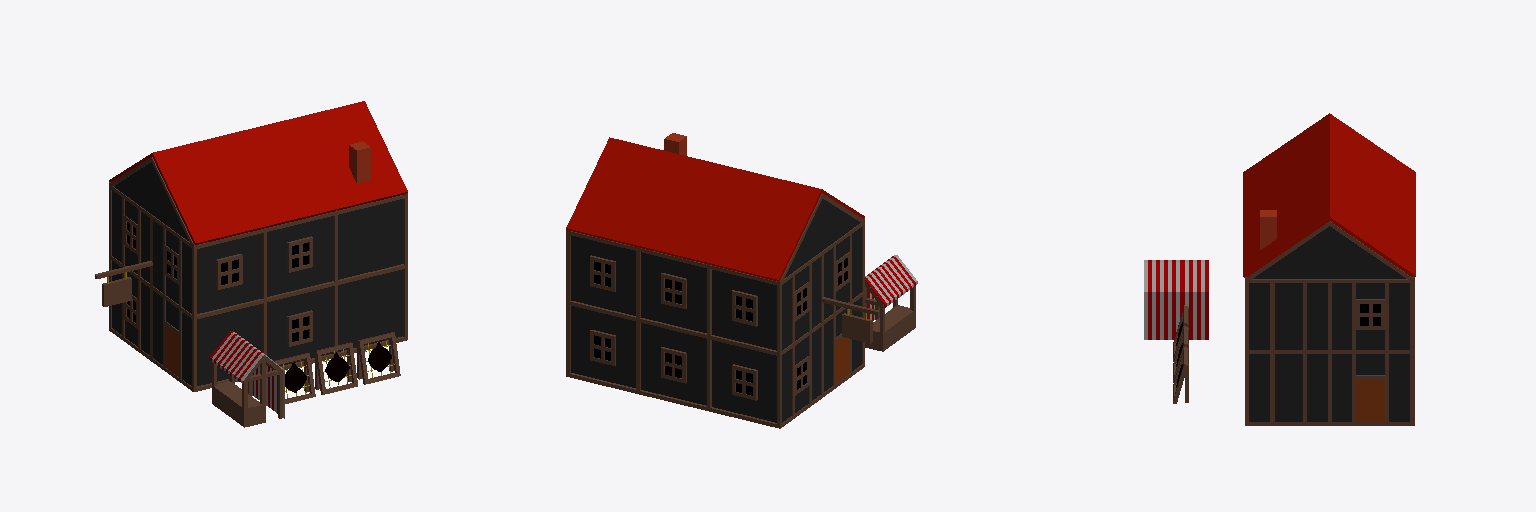
The model's file is timberframedtanner.obj.
The picture shows the model from 3 angles: view 1: azimuth 30°, elevation 25°; view 2: azimuth 150°, elevation 25°; view 3: azimuth 270°, elevation 25°; orthographic projection.
Visible parts, largest first — view 1: Cube.005, Cube.007_Cube.011, Cylinder.001_Cylinder.008, Cylinder.003_Cylinder.001, Cylinder.004_Cylinder.009, Cube.011_Cube.015, Cube.018_Cube.016, Cube.056_Cube.081, Cube.001_Cube.058, Cube.013_Cube.080, Cube.006_Cube.010, Cube.026_Cube.019 (+7 smaller); view 2: Cube.005, Cube.007_Cube.011, Cube.023_Cube.026, Cube.022_Cube.025, Cube.021_Cube.024, Cube.015_Cube.020, Cube.019_Cube.022, Cube.017_Cube.021, Cube.014_Cube.018, Cube.008, Cube.020_Cube.023, Cube.073_Cube.078 (+6 smaller); view 3: Cube.005, Cube.007_Cube.011, Cube.147_Cube.153, Cube.003, Cube.033, Cube.027, Cube.047_Cube.049, Cube.031, Cube.016_Cube.013, Cube.006_Cube.010, Cube.012_Cube.017, Cube.032 (+5 smaller).
Part boxes in pixels (x1,y1,x2,y2): Cube.005: (112,162,402,385); Cube.007_Cube.011: (109,101,407,244); Cylinder.001_Cylinder.008: (357,332,400,384); Cylinder.003_Cylinder.001: (315,342,357,394); Cylinder.004_Cylinder.009: (274,353,315,403); Cube.011_Cube.015: (195,264,405,319); Cube.018_Cube.016: (195,195,406,249); Cube.056_Cube.081: (216,254,242,289); Cube.001_Cube.058: (287,310,312,346); Cube.013_Cube.080: (287,236,312,272); Cube.006_Cube.010: (349,141,370,183); Cube.026_Cube.019: (192,243,196,391); Cube.005: (571,199,861,422); Cube.007_Cube.011: (566,137,864,280); Cube.023_Cube.026: (567,373,779,427); Cube.022_Cube.025: (567,301,779,355); Cube.021_Cube.024: (567,231,777,284); Cube.015_Cube.020: (732,290,757,326); Cube.019_Cube.022: (661,347,686,383); Cube.017_Cube.021: (590,330,615,365); Cube.014_Cube.018: (661,273,686,308); Cube.008: (590,255,615,291); Cube.020_Cube.023: (732,364,757,400); Cube.073_Cube.078: (842,313,872,343); Cube.005: (1249,226,1409,421); Cube.007_Cube.011: (1243,113,1415,277); Cube.147_Cube.153: (1144,292,1208,339); Cube.003: (1356,380,1384,421); Cube.033: (1356,299,1384,329); Cube.027: (1410,277,1414,425); Cube.047_Cube.049: (1270,279,1274,423); Cube.031: (1248,422,1410,425); Cube.016_Cube.013: (1248,350,1410,353); Cube.006_Cube.010: (1260,210,1276,249); Cube.012_Cube.017: (1245,277,1248,425); Cube.032: (1248,279,1410,282).
Bounding box in the file's own units: 15.3 × 11.25 × 13.34.